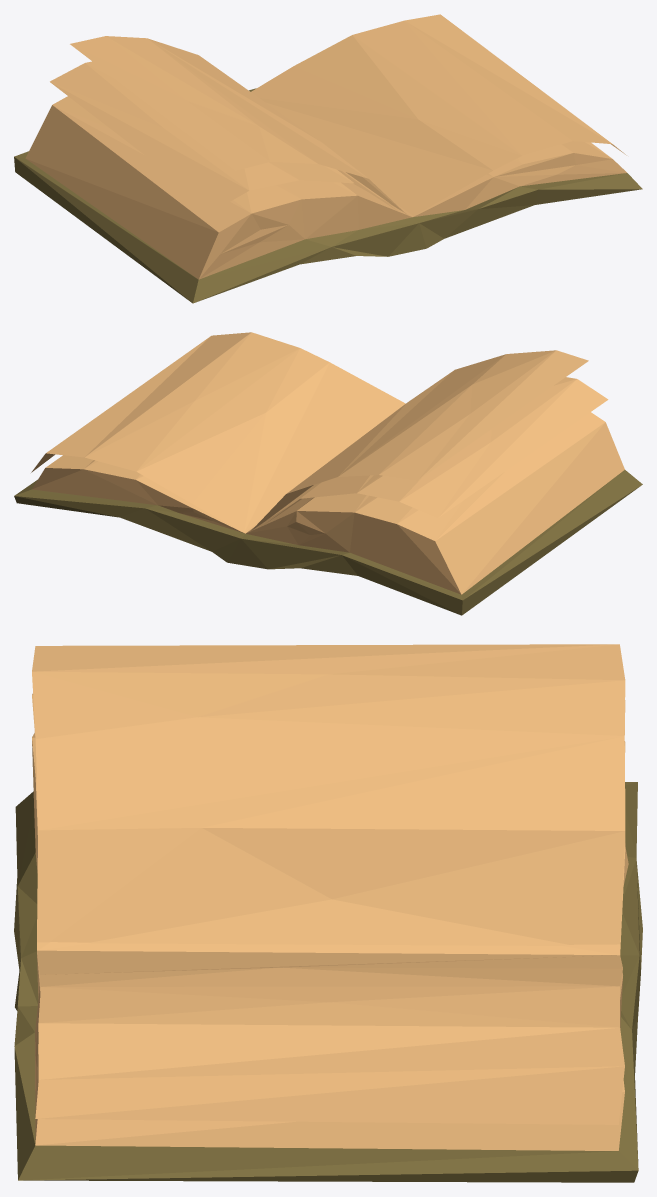
Rendered from SFHW_Book_Opened_002.fbx.
3 renders of one model, top to bottom at view 1: azimuth 30°, elevation 25°; view 2: azimuth 150°, elevation 25°; view 3: azimuth 270°, elevation 25°, orthographic. The views are drawn at different scales.
Parts seen in each view (by area): view 1: SFHW_Book_Opened_002; view 2: SFHW_Book_Opened_002; view 3: SFHW_Book_Opened_002.
Boxes of the visible parts, bbox=[...] form: SFHW_Book_Opened_002: bbox=[14, 14, 642, 303]; SFHW_Book_Opened_002: bbox=[14, 332, 642, 615]; SFHW_Book_Opened_002: bbox=[14, 644, 642, 1182].
Size of the model in its own units: 62.5 by 16.39 by 43.59.
